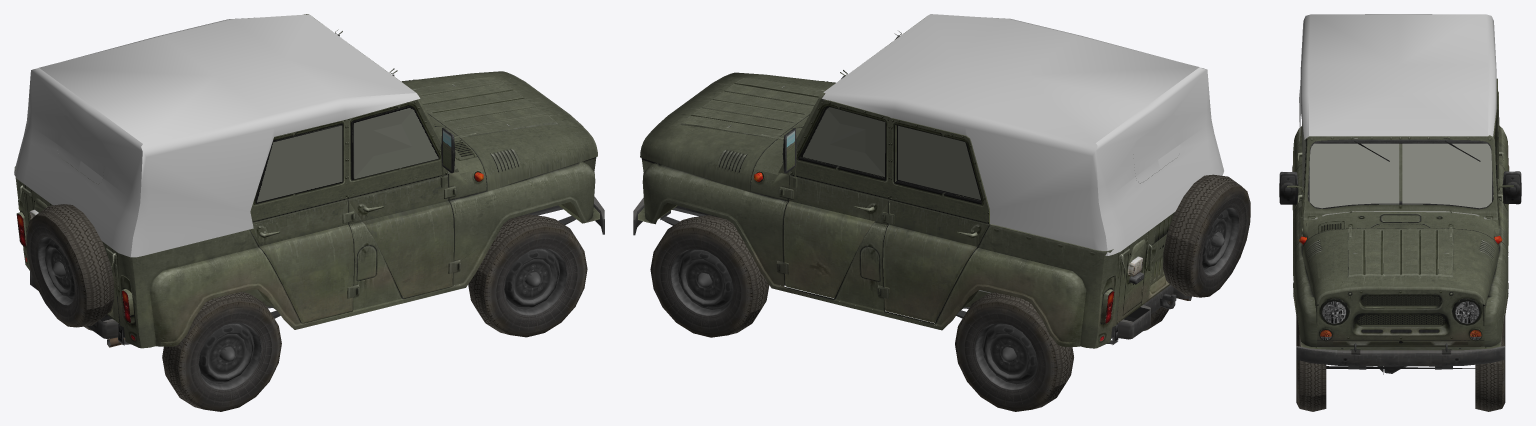
Rendered from uaz-469.fbx.
The picture shows the model from 3 angles, left to right: view 1: azimuth 30°, elevation 25°; view 2: azimuth 150°, elevation 25°; view 3: azimuth 270°, elevation 25°; orthographic projection. The views are drawn at different scales.
Parts seen in each view (by area): view 1: canvas, hull, Object006, Object003, wheel, tire06, tire09, Object004, hullb, gear; view 2: canvas, hull, Object002, Object005, tire08, tire07, tire09, hullb, Object004, gear; view 3: hull, canvas, window, hullb, tire08, wheel, Object006, Object005, lens, Object002, Object003.
Boxes of the visible parts, x1,y1,x2,y2 form: canvas: (14, 14, 420, 257); hull: (14, 14, 599, 348); Object006: (347, 100, 455, 298); Object003: (250, 119, 353, 323); wheel: (468, 214, 587, 337); tire06: (162, 291, 281, 411); tire09: (26, 204, 114, 327); Object004: (58, 115, 105, 183); hullb: (20, 115, 604, 347); gear: (38, 237, 74, 305); canvas: (822, 14, 1223, 255); hull: (638, 16, 1177, 348); Object002: (883, 118, 989, 322); Object005: (782, 99, 890, 298); tire08: (650, 215, 769, 337); tire07: (955, 292, 1073, 411); tire09: (1163, 174, 1250, 297); hullb: (633, 157, 1191, 344); Object004: (1133, 114, 1180, 182); gear: (1202, 207, 1238, 275); hull: (1292, 91, 1509, 350); canvas: (1299, 14, 1496, 140); window: (1309, 143, 1491, 219); hullb: (1296, 137, 1508, 374); tire08: (1475, 315, 1505, 411); wheel: (1296, 315, 1326, 411); Object006: (1279, 127, 1309, 275); Object005: (1492, 110, 1521, 253); lens: (1299, 236, 1502, 340); Object002: (1496, 78, 1508, 222); Object003: (1292, 122, 1302, 223).
Size of the model in its own units: 167 by 84.78 by 79.09.
